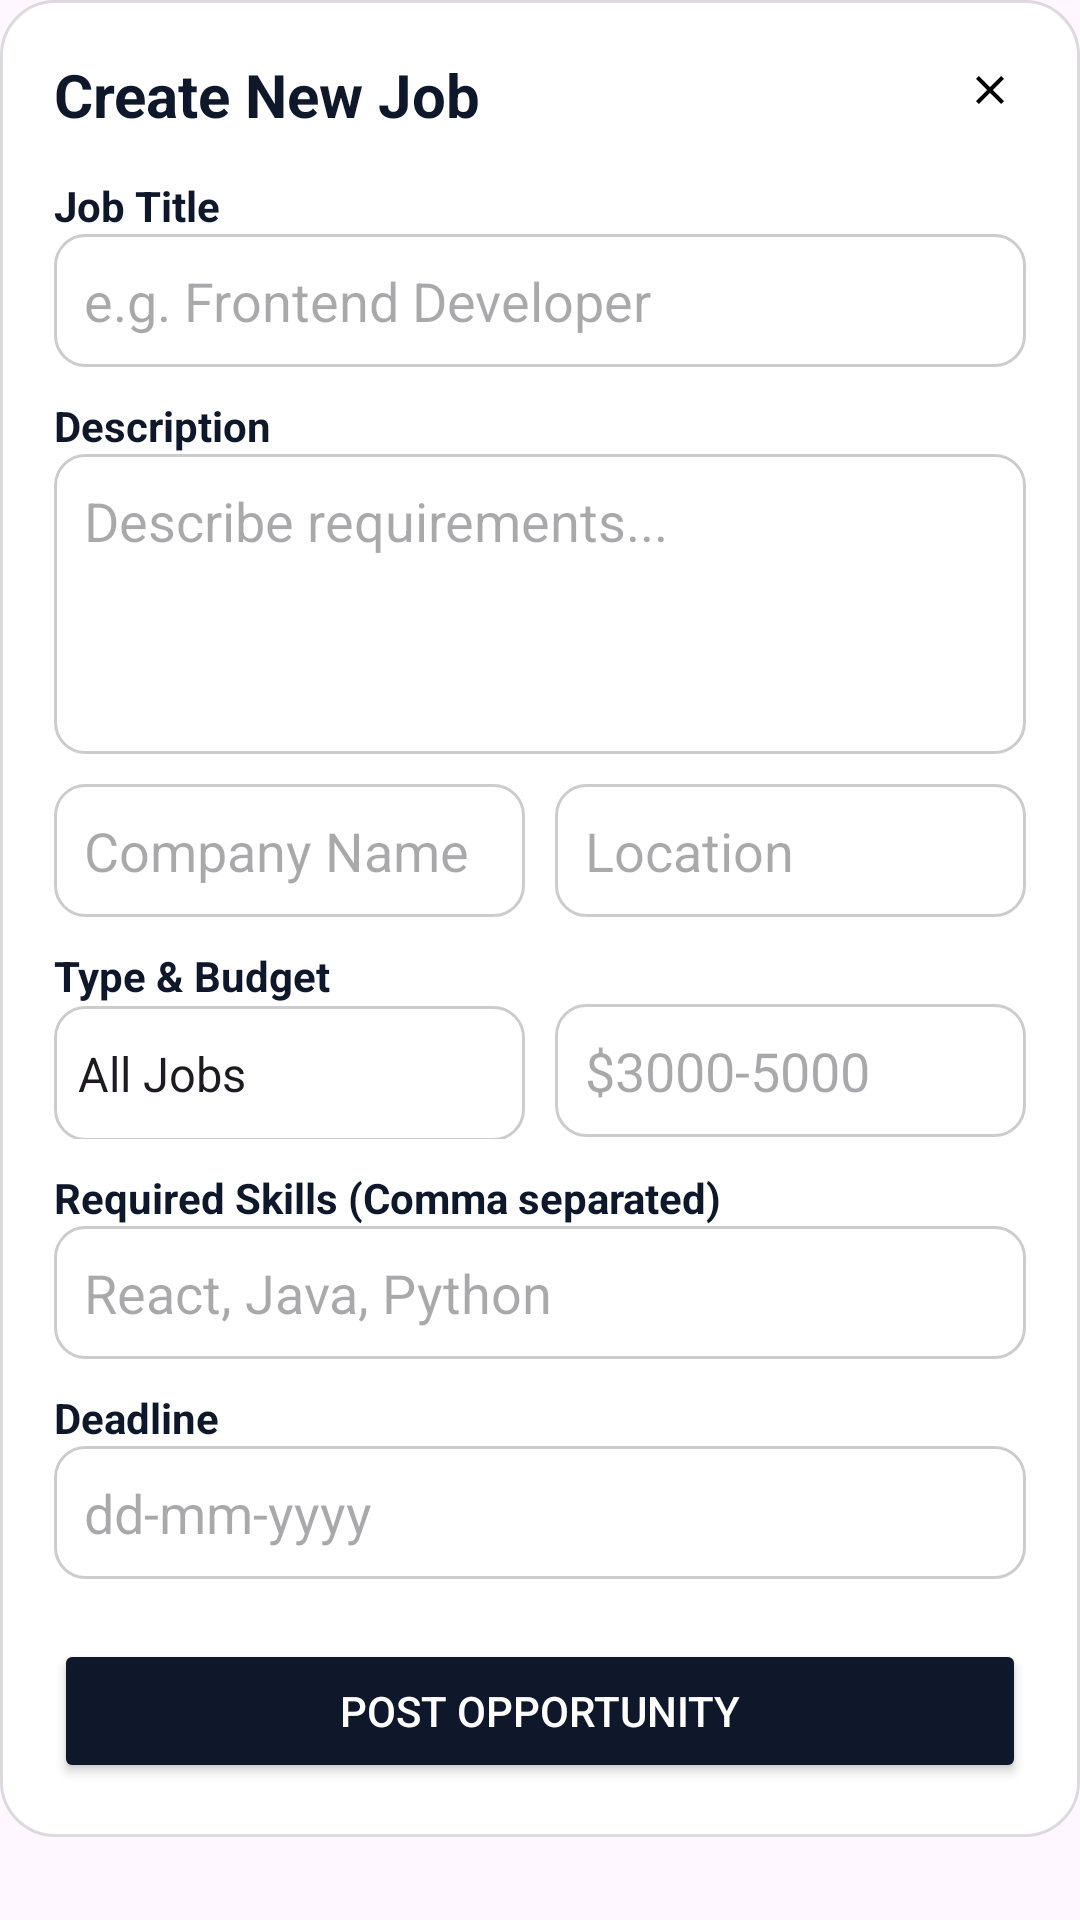

Icons on this 1080px×1920px Android screen, each with the point to tap as [x,y]:
close: [990,90]
